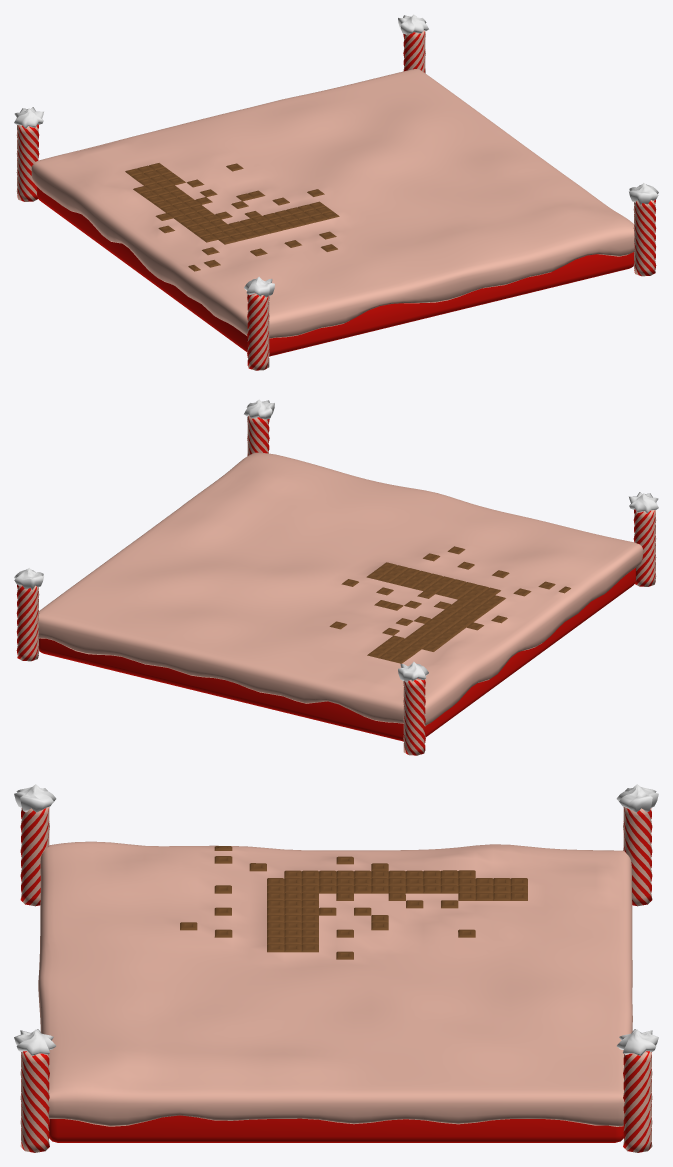
Rendered from environment.fbx.
The picture shows the model from 3 angles, top to bottom: view 1: azimuth 30°, elevation 25°; view 2: azimuth 150°, elevation 25°; view 3: azimuth 270°, elevation 25°; orthographic projection. The views are drawn at different scales.
Parts seen in each view (by area): view 1: Cube.001, Cube, Cylinder, BezierCurve; view 2: Cube.001, Cube, Cylinder, BezierCurve; view 3: Cube.001, Cube, Cylinder, BezierCurve.
Part boxes in pixels (left/top/right/bottom): Cube.001: left=31, top=69, right=634, bottom=338; Cube: left=37, top=187, right=634, bottom=356; Cylinder: left=16, top=30, right=656, bottom=370; BezierCurve: left=14, top=14, right=658, bottom=297; Cube.001: left=38, top=452, right=643, bottom=725; Cube: left=38, top=568, right=635, bottom=741; Cylinder: left=16, top=415, right=656, bottom=755; BezierCurve: left=14, top=399, right=658, bottom=682; Cube.001: left=38, top=841, right=632, bottom=1126; Cube: left=49, top=1115, right=623, bottom=1142; Cylinder: left=20, top=807, right=652, bottom=1152; BezierCurve: left=14, top=784, right=658, bottom=1056.
Size of the model in its own units: 215 by 44.69 by 223.
